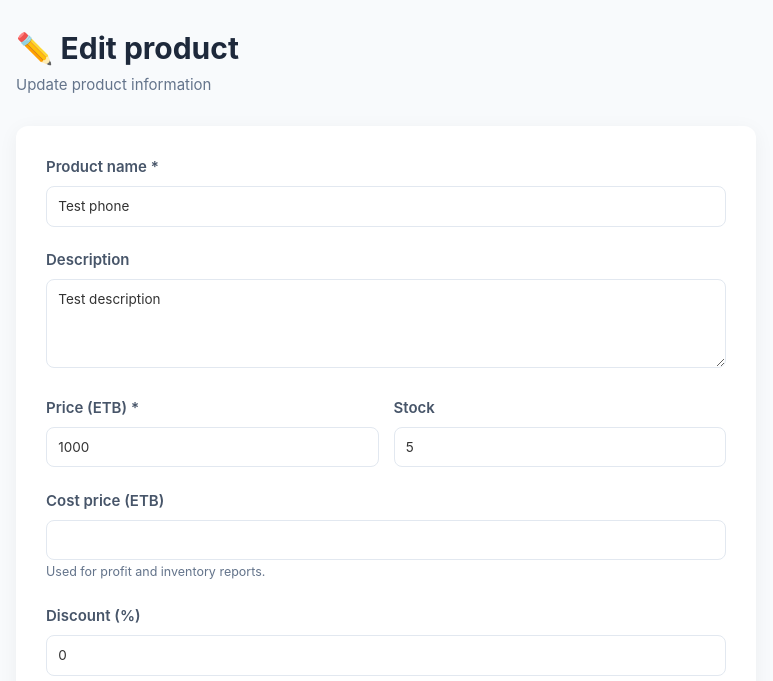
Test case: EditProduct discount persistence › sends the chosen percentage and confirms it in the saved product
Replace the text in the number field showing "0" with "20" at (386, 655), box [46, 635, 726, 676]
(page scrolled)
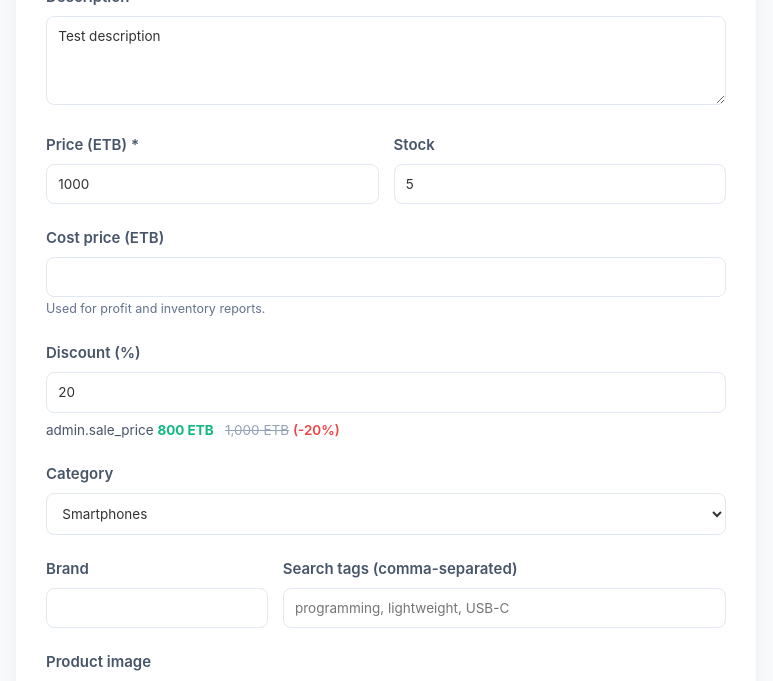
Submit the form
(page scrolled)
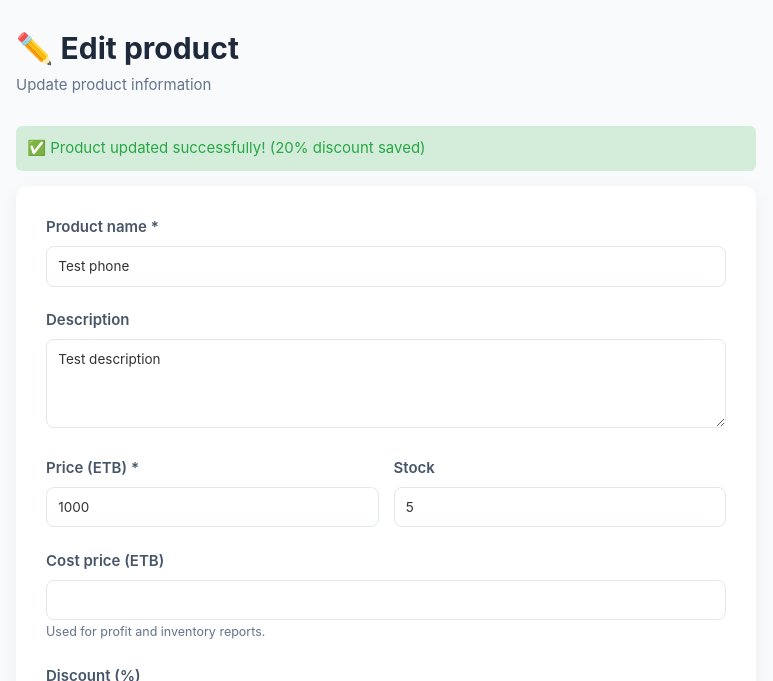
Expected: the text "✅ Product updated successfully! (20% discount saved)" is shown, [16, 126, 756, 171]
